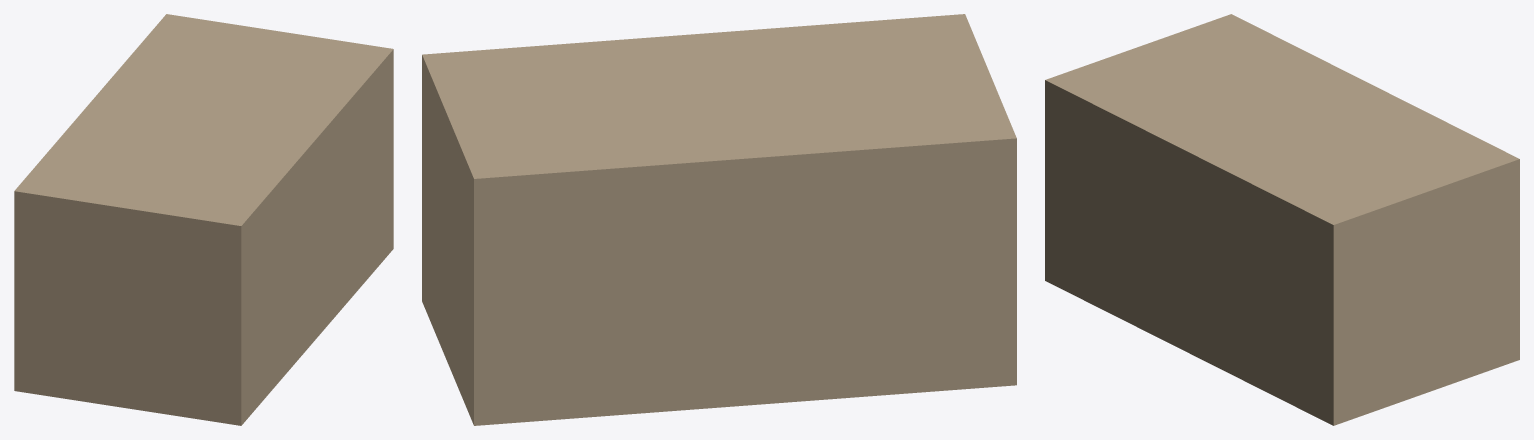
Rendered from bld_55879515.dae.
3 views of the same model, side by side, from view 1: azimuth 30°, elevation 25°; view 2: azimuth 150°, elevation 25°; view 3: azimuth 270°, elevation 25° (orthographic). The views are drawn at different scales.
Parts seen in each view (by area): view 1: bld_55879515; view 2: bld_55879515; view 3: bld_55879515.
Boxes of the visible parts, x1=… form: bld_55879515: x1=14, y1=14, x2=393, y2=425; bld_55879515: x1=422, y1=14, x2=1016, y2=425; bld_55879515: x1=1045, y1=14, x2=1519, y2=425.
Size of the model in its own units: 18.03 by 17.14 by 8.
